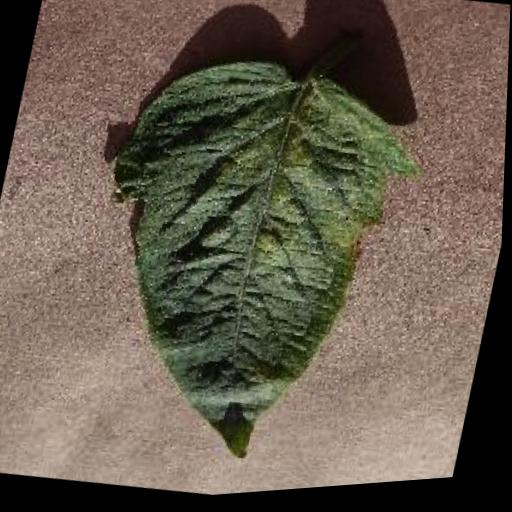Spider Mites: (57, 30, 436, 497)
